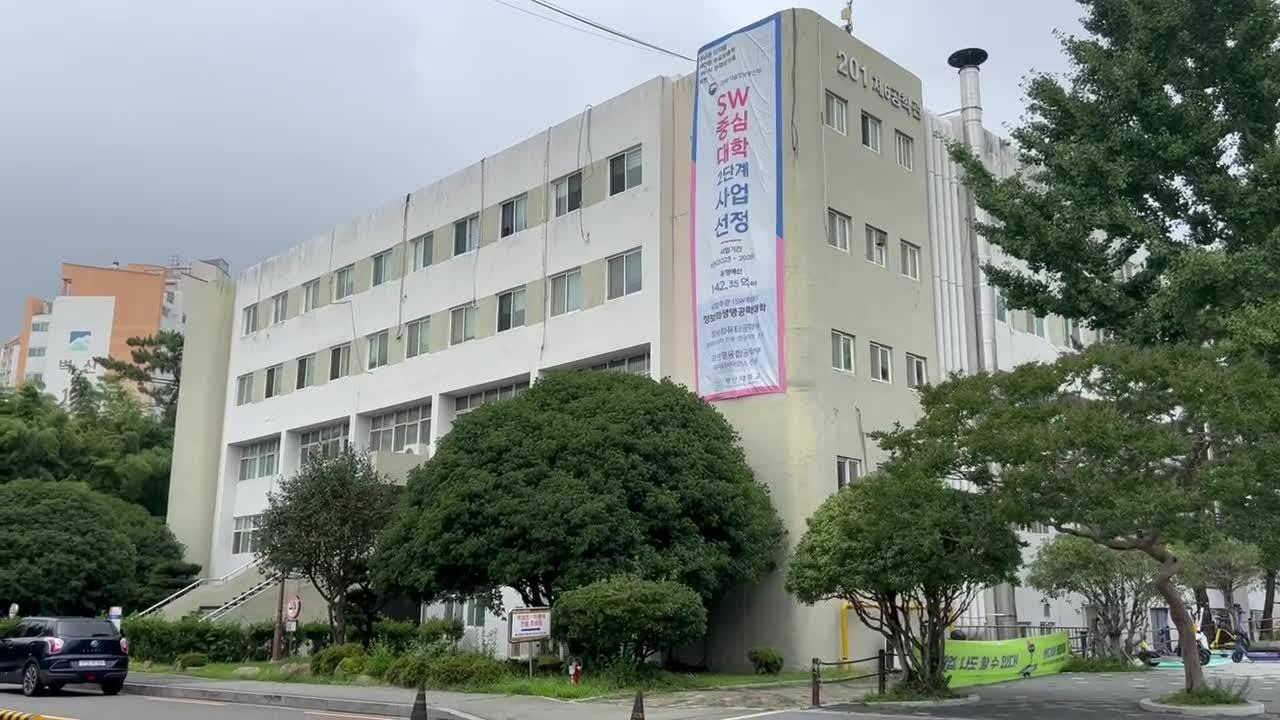building: (211, 141, 701, 384)
